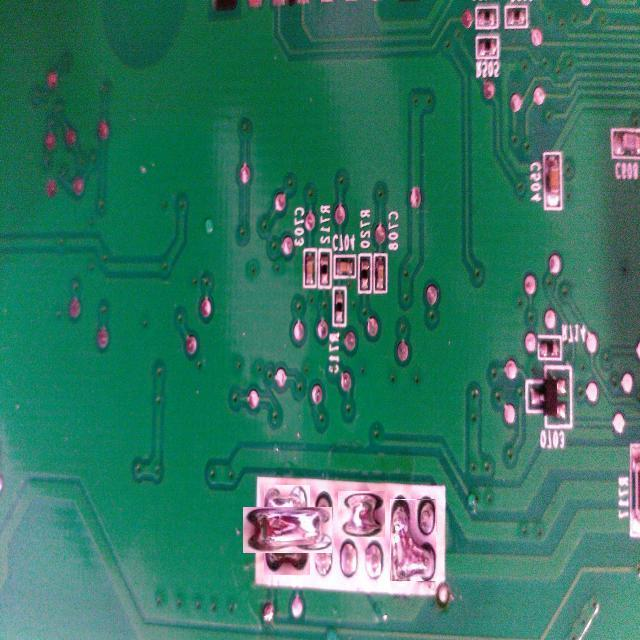Short_circuit: (253, 496, 321, 564), (390, 499, 436, 581), (338, 491, 385, 537)
